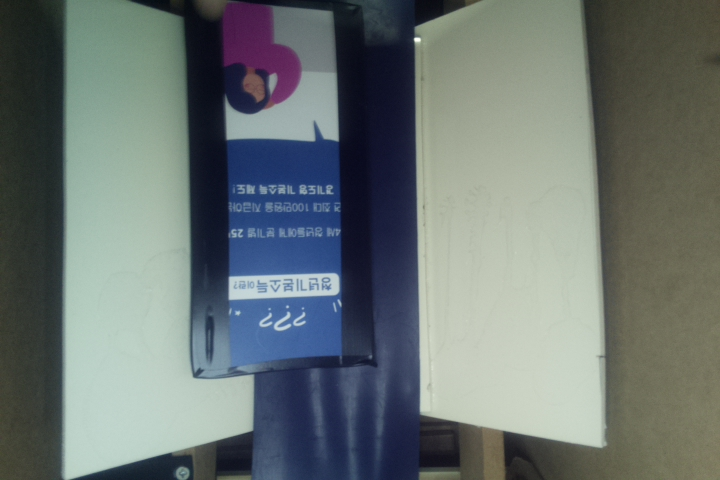book: (184, 1, 381, 380)
